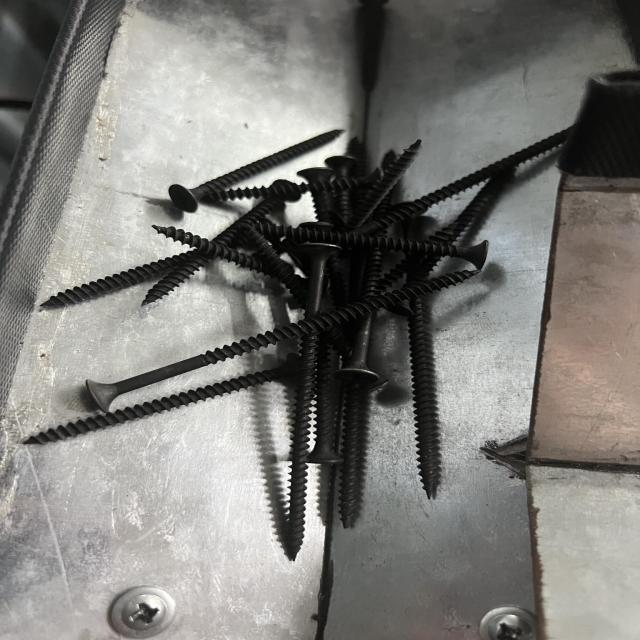screw: (85, 268, 481, 408), (172, 126, 344, 213), (281, 242, 319, 562)
